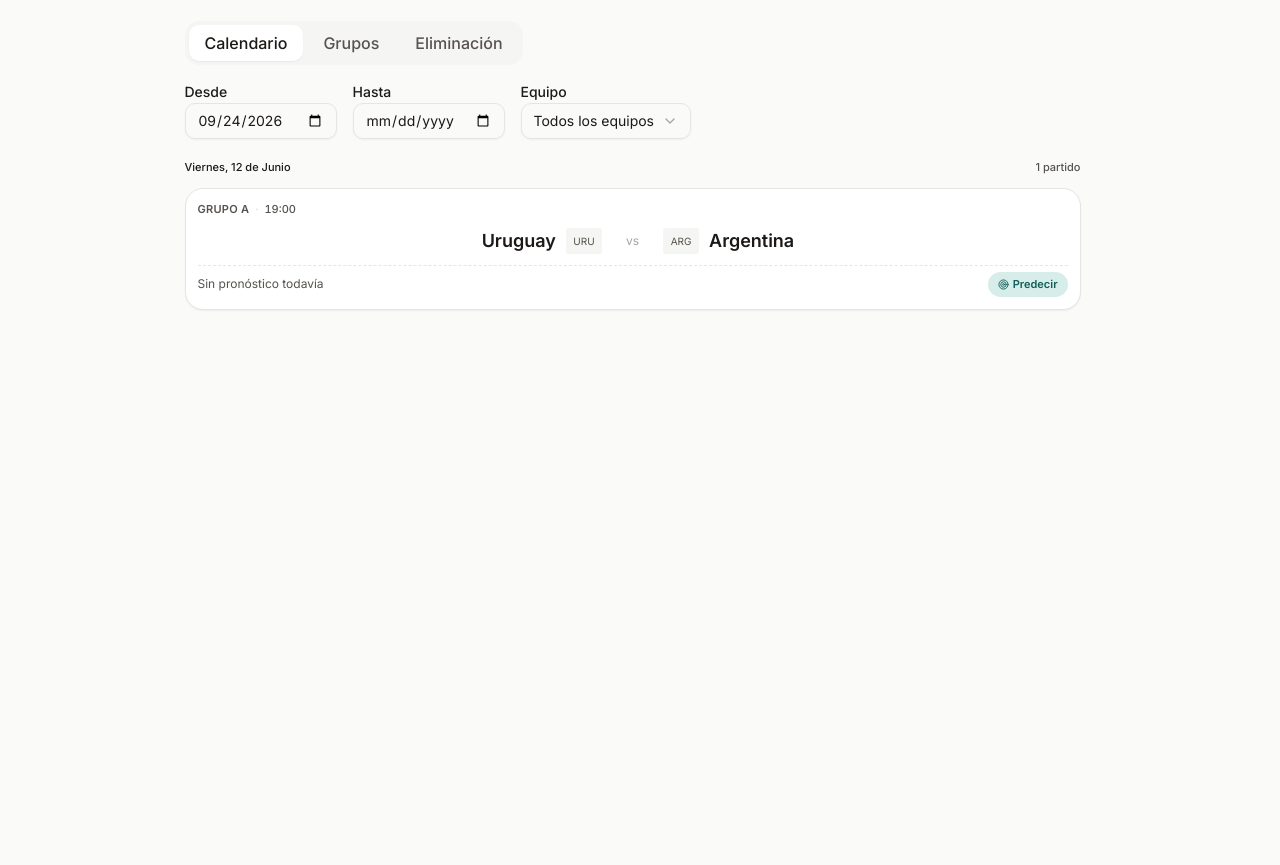
Test: FixturePage › renders the pre-tournament groups (all stats at 0) instead of the placeholder
What coordinates should you click on to do the following:
click the tab "Grupos"
I would click on:
 (351, 43)
Its box is [307, 25, 395, 61].
(page scrolled)
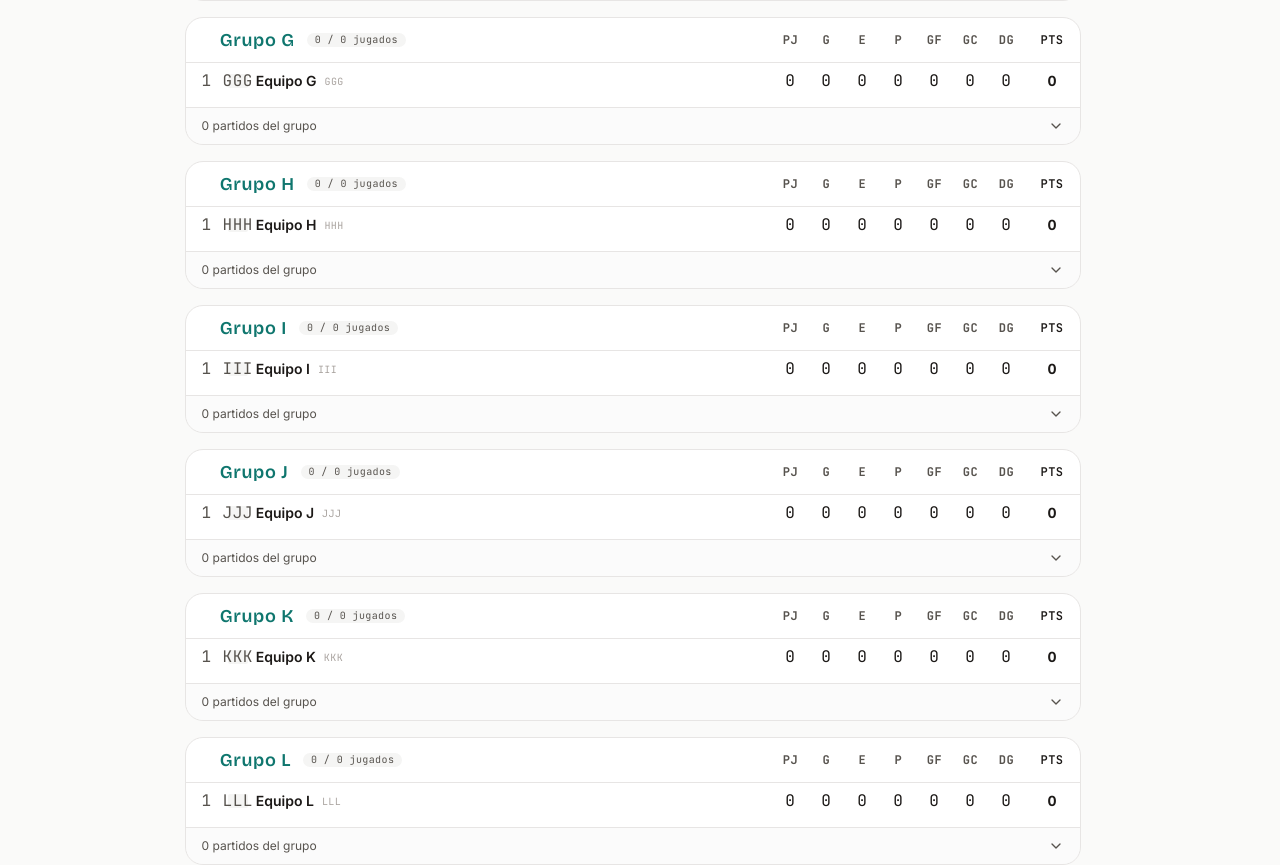
Expected: the heading "Grupo L" is shown, [220, 746, 291, 774]
